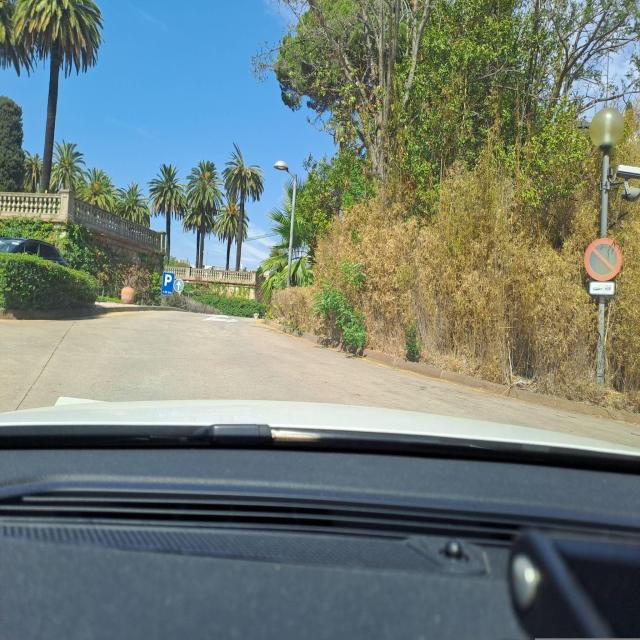forb_stopping: (584, 237, 623, 280)
